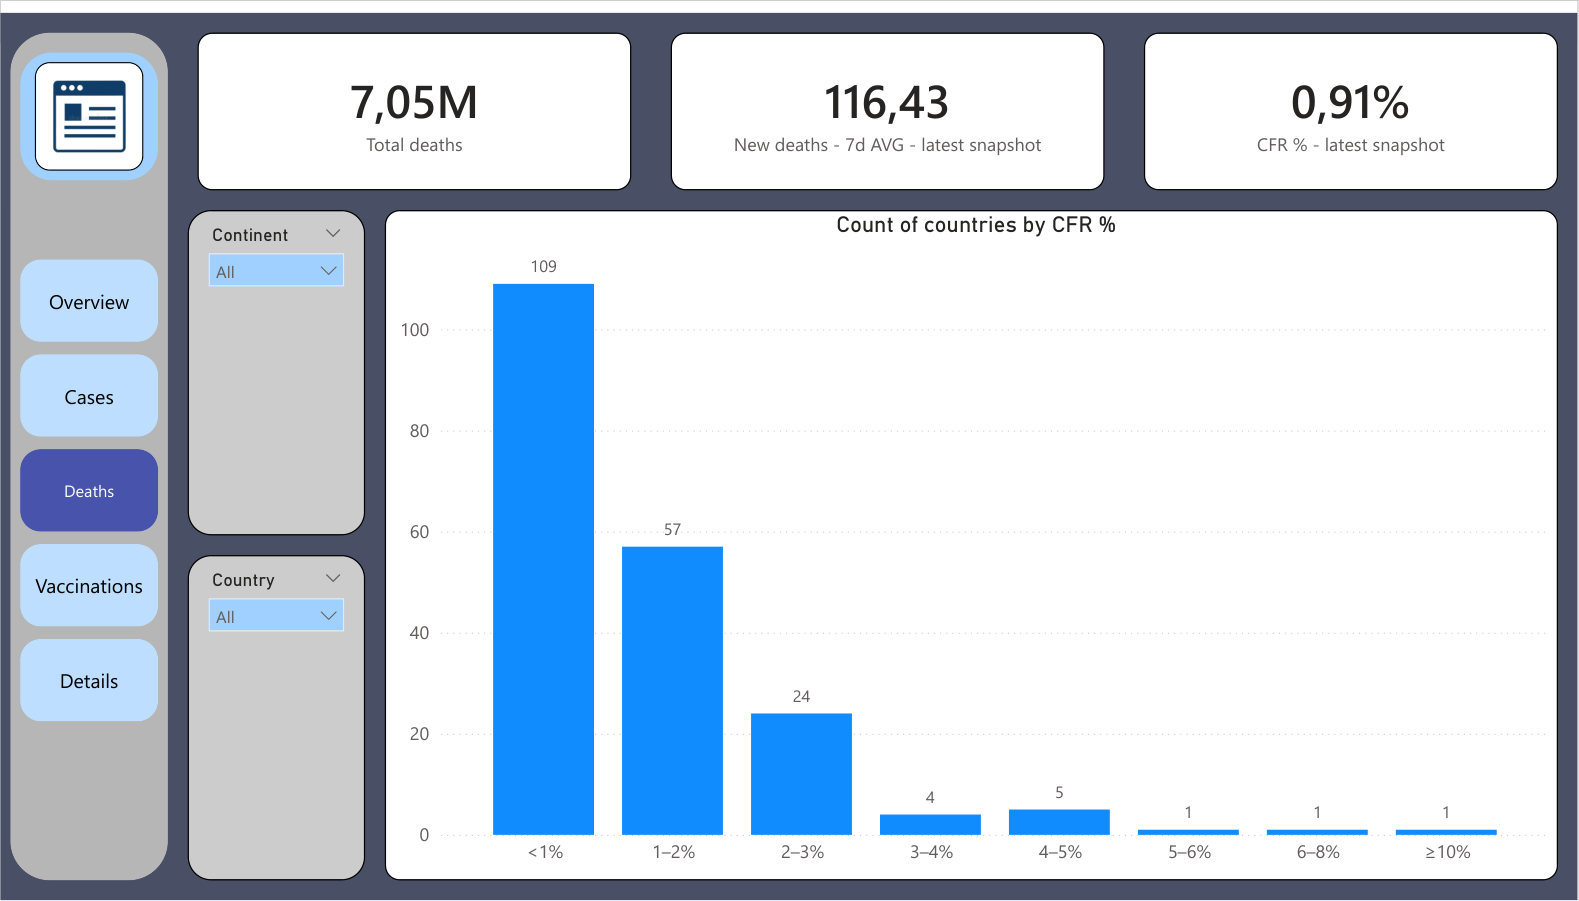

The page's visual inventory and layout, read from the dashboard file:
{"tool":"powerbi","page":{"name":"Deaths","canvas":[1280,720],"ordinal":2},"visuals":[{"type":"shape","box":[8,16,128,688],"z":0},{"type":"pageNavigator","box":[16,200,112,376],"z":1000},{"type":"slicer","fields":{"Values":["CFR_Latest.location"]},"box":[152,440,144,264],"z":2000},{"type":"slicer","fields":{"Values":["CFR_Latest.continent"]},"box":[152,160,144,264],"z":3000},{"type":"shape","box":[16,32,112,104],"z":4000},{"type":"image","box":[28,39.6,88,88],"z":5000},{"type":"cardVisual","fields":{"Data":["covid_final.Total deaths"]},"box":[160,16,352,128],"z":6000},{"type":"cardVisual","fields":{"Data":["CFR_Latest.New deaths (7d avg, Latest snapshot)"]},"box":[544,16,352,128],"z":7000},{"type":"cardVisual","fields":{"Data":["CFR_Latest.CFR % (Latest snapshot, Weighted)"]},"box":[928,16,336,128],"z":8000},{"type":"clusteredColumnChart","title":"Count of countries by CFR %","fields":{"Category":["CFR_Latest.CFR Bin"],"Y":["CountNonNull(CFR_Latest.location)"]},"box":[312,160,952,544],"z":9000}]}

Visuals, with their boxes in screenshot pixels (x1, y1, x2, y2), scaled from the page's 1280x720 canvas onto the 1579x901 screenshot:
shape: [x1=10, y1=20, x2=168, y2=881]
pageNavigator: [x1=20, y1=250, x2=158, y2=721]
slicer - CFR_Latest.location: [x1=188, y1=551, x2=365, y2=881]
slicer - CFR_Latest.continent: [x1=188, y1=200, x2=365, y2=531]
shape: [x1=20, y1=40, x2=158, y2=170]
image: [x1=35, y1=50, x2=143, y2=160]
cardVisual - covid_final.Total deaths: [x1=197, y1=20, x2=632, y2=180]
cardVisual - CFR_Latest.New deaths (7d avg, Latest snapshot): [x1=671, y1=20, x2=1105, y2=180]
cardVisual - CFR_Latest.CFR % (Latest snapshot, Weighted): [x1=1145, y1=20, x2=1559, y2=180]
"Count of countries by CFR %" clusteredColumnChart: [x1=385, y1=200, x2=1559, y2=881]
